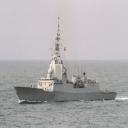Fragata: (14, 18, 119, 104)
